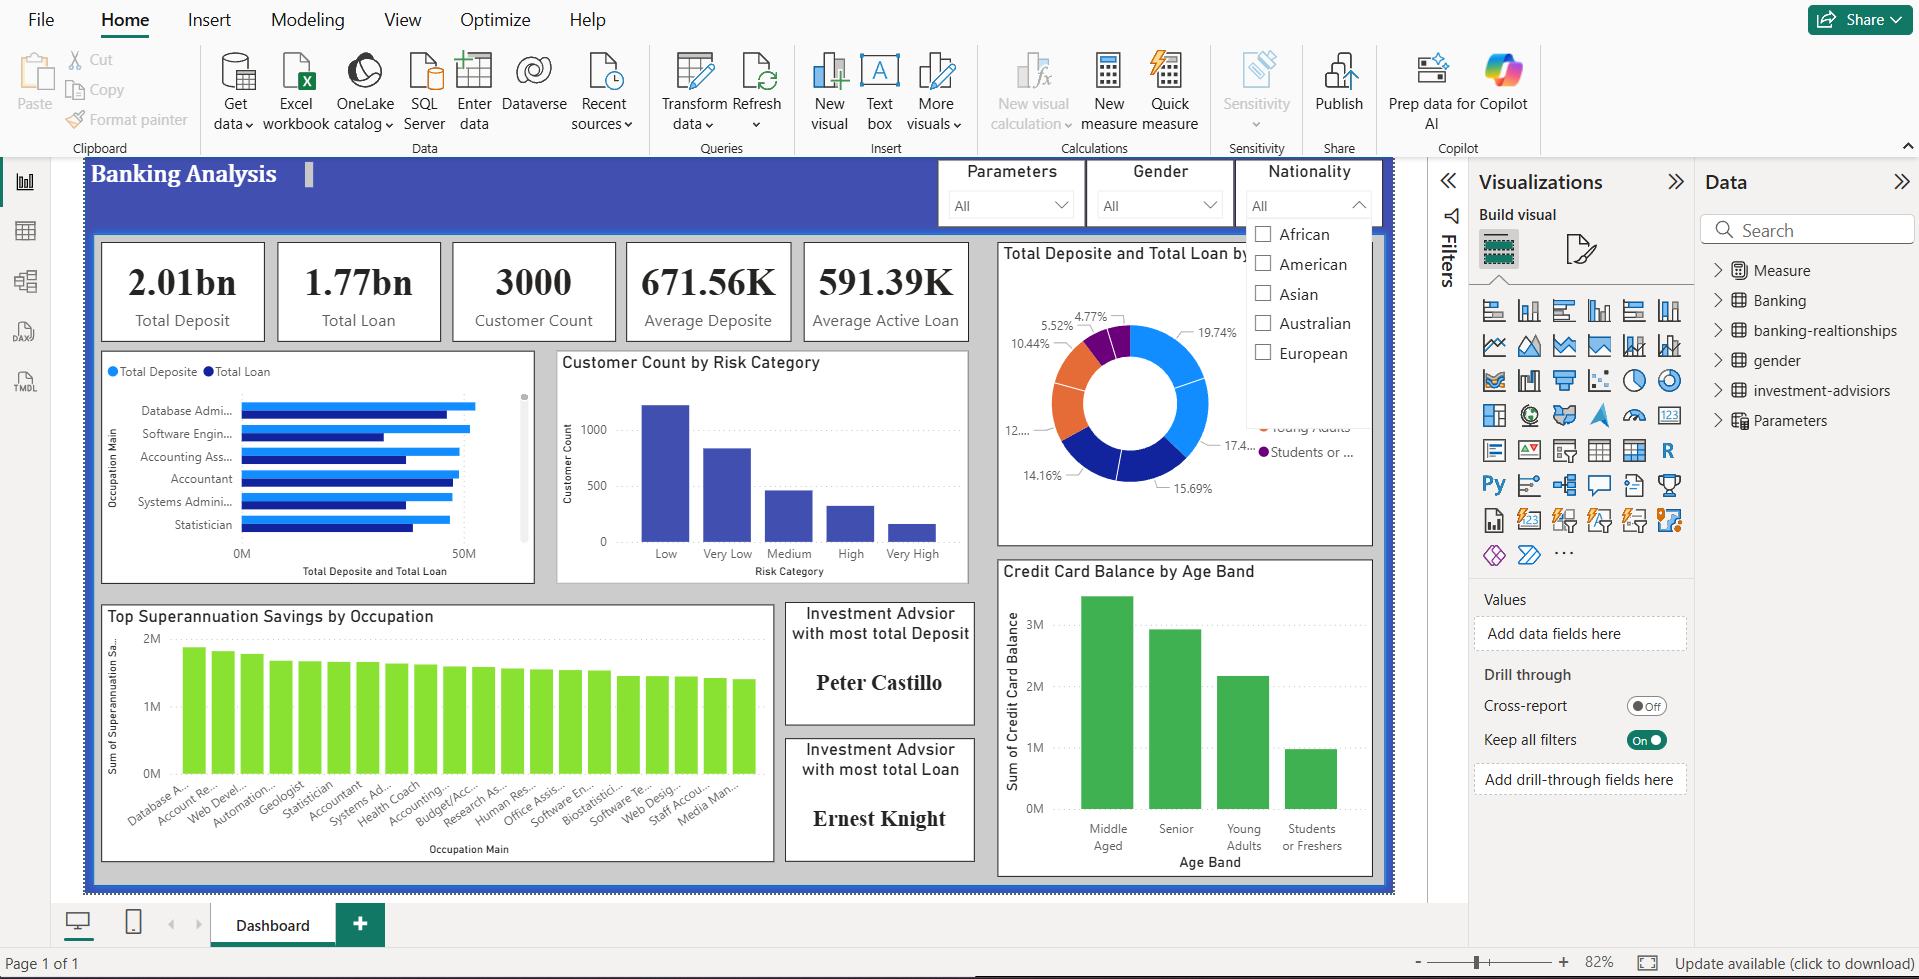

The dashboard page shown, as its layout file describes it:
{"tool":"powerbi","page":{"name":"Dashboard","canvas":[1280,720],"ordinal":0},"visuals":[{"type":"shape","box":[0,0,1280.3,720.2],"z":0},{"type":"shape","box":[0,66.8,1280,653.9],"z":1000},{"type":"textbox","box":[0,0,228.2,36.2],"z":2000},{"type":"card","fields":{"Values":["Measure.Total Deposite"]},"box":[15.3,83.5,160,97.4],"z":3000},{"type":"slicer","title":"Nationality","fields":{"Values":["Banking.Nationality"]},"box":[1125.6,2.8,144.7,66.8],"z":4000},{"type":"slicer","title":"Gender","fields":{"Values":["gender.Gender"]},"box":[979.5,2.8,144.7,66.8],"z":5000},{"type":"slicer","title":"Parameters","fields":{"Values":["Parameter 2.Parameter"]},"box":[833.4,2.8,144.7,66.8],"z":6000},{"type":"card","fields":{"Values":["Measure.Total Loan"]},"box":[187.8,83.5,160,97.4],"z":7000},{"type":"card","fields":{"Values":["Measure.Customer Count"]},"box":[359,83.5,160,97.4],"z":8000},{"type":"card","fields":{"Values":["Measure.Average Deposite"]},"box":[530.1,83.5,161.4,97.4],"z":9000},{"type":"card","fields":{"Values":["Measure.Average Active Loan"]},"box":[702.6,83.5,161.4,97.4],"z":10000},{"type":"donutChart","fields":{"Y":["Measure.Total Deposite","Measure.Total Loan"],"Category":["Banking.Age Band"]},"box":[893.2,83.5,367.3,297.7],"z":11000},{"type":"clusteredColumnChart","title":"Credit Card Balance by Age Band","fields":{"Y":["Sum(Banking.Credit Card Balance)"],"Category":["Banking.Age Band"]},"box":[893.2,393.7,367.3,310.3],"z":12000},{"type":"clusteredBarChart","title":"Total Bank Loan by Occupation","fields":{"Y":["Measure.Total Deposite","Measure.Total Loan"],"Category":["Banking.Occupation Main"]},"box":[15.3,189.2,424.3,228.2],"z":13000},{"type":"clusteredColumnChart","fields":{"Y":["Measure.Customer Count"],"Category":["Banking.Custom"]},"box":[460.5,189.2,403.5,228.2],"z":14000},{"type":"clusteredColumnChart","title":"Top Superannuation Savings by Occupation","fields":{"Category":["Banking.Occupation Main"],"Y":["Sum(Banking.Superannuation Savings)"]},"box":[15.3,438.3,658.1,251.8],"z":15000},{"type":"card","fields":{"Values":["Measure.Total Deposite"]},"box":[692.9,438.3,171.1,107.1],"z":16000},{"type":"card","fields":{"Values":["Measure.Total Loan"]},"box":[692.9,549.6,171.1,104.3],"z":17000}]}

Visuals, with their boxes on the page's 1280x720 design canvas (x1, y1, x2, y2). These are canvas units, not pixel positions in the 1919x979 screenshot, which may show the page scaled, cropped or inside an application window:
shape: <region>0, 0, 1280, 720</region>
shape: <region>0, 67, 1280, 721</region>
textbox: <region>0, 0, 228, 36</region>
card - Measure.Total Deposite: <region>15, 84, 175, 181</region>
"Nationality" slicer: <region>1126, 3, 1270, 70</region>
"Gender" slicer: <region>980, 3, 1124, 70</region>
"Parameters" slicer: <region>833, 3, 978, 70</region>
card - Measure.Total Loan: <region>188, 84, 348, 181</region>
card - Measure.Customer Count: <region>359, 84, 519, 181</region>
card - Measure.Average Deposite: <region>530, 84, 692, 181</region>
card - Measure.Average Active Loan: <region>703, 84, 864, 181</region>
donutChart - Measure.Total Deposite x Measure.Total Loan: <region>893, 84, 1260, 381</region>
"Credit Card Balance by Age Band" clusteredColumnChart: <region>893, 394, 1260, 704</region>
"Total Bank Loan by Occupation" clusteredBarChart: <region>15, 189, 440, 417</region>
clusteredColumnChart - Measure.Customer Count x Banking.Custom: <region>460, 189, 864, 417</region>
"Top Superannuation Savings by Occupation" clusteredColumnChart: <region>15, 438, 673, 690</region>
card - Measure.Total Deposite: <region>693, 438, 864, 545</region>
card - Measure.Total Loan: <region>693, 550, 864, 654</region>
